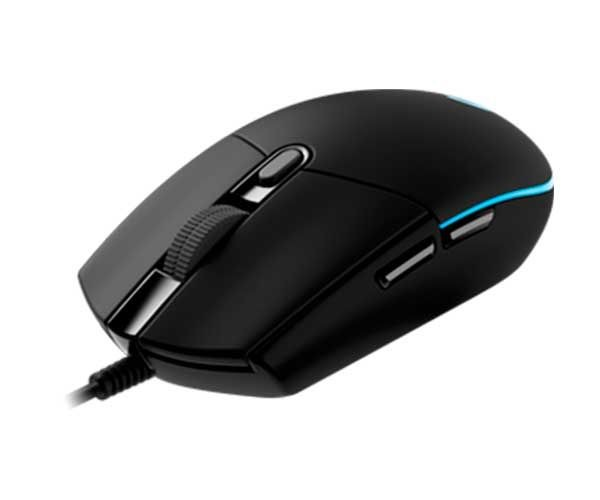mouse: (69, 86, 560, 402)
